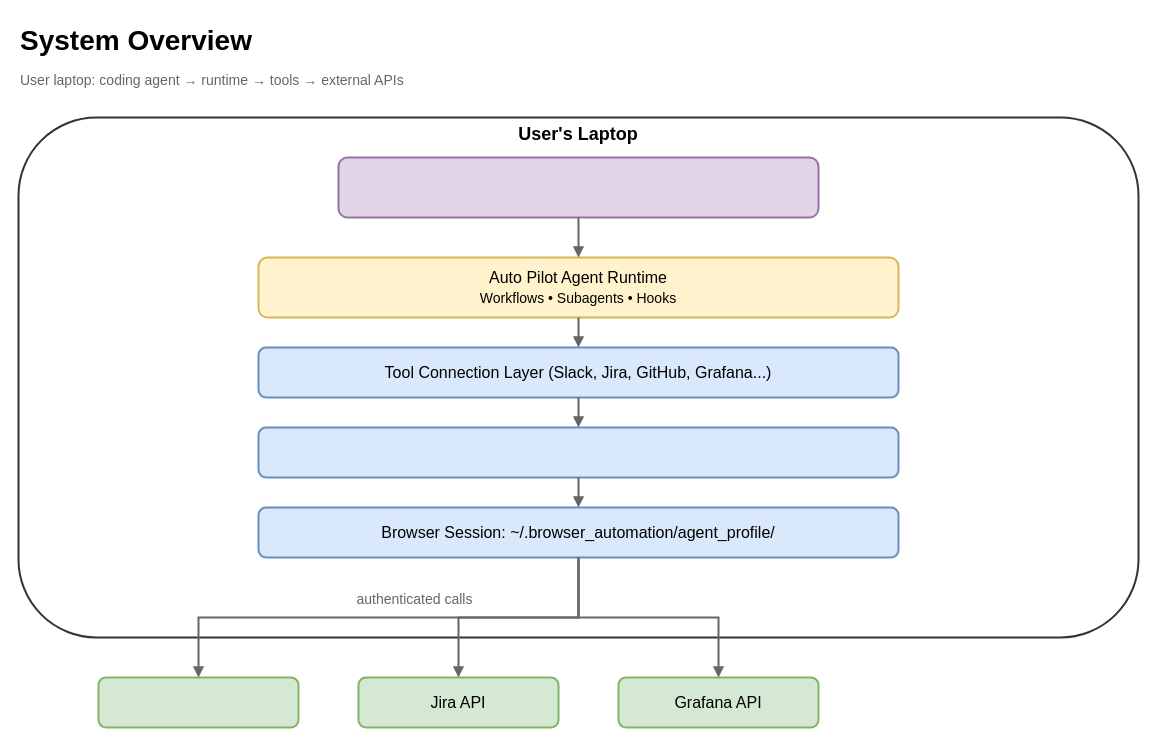
The diagram is 1156 pixels wide and 745 high, and some of its shapes have lost their labels. The shapes that lost their labels are listed below. From the top down, each one's centre as x and y in pixels, then its label:
At pixel 578 187: "AI Coding Agent (Cursor / Claude Code / Codex)".
At pixel 578 452: "session_request.py — auth tokens, API calls".
At pixel 198 702: "Slack API".
